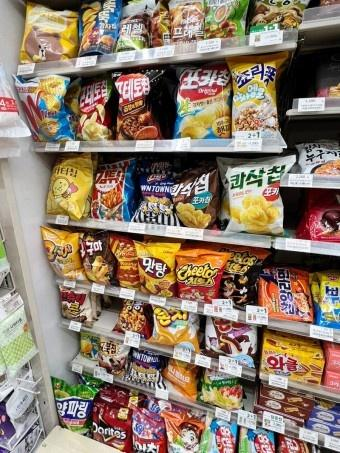snack: (219, 152, 297, 237), (229, 50, 290, 134), (173, 63, 233, 139), (177, 250, 231, 303), (133, 240, 180, 295)
